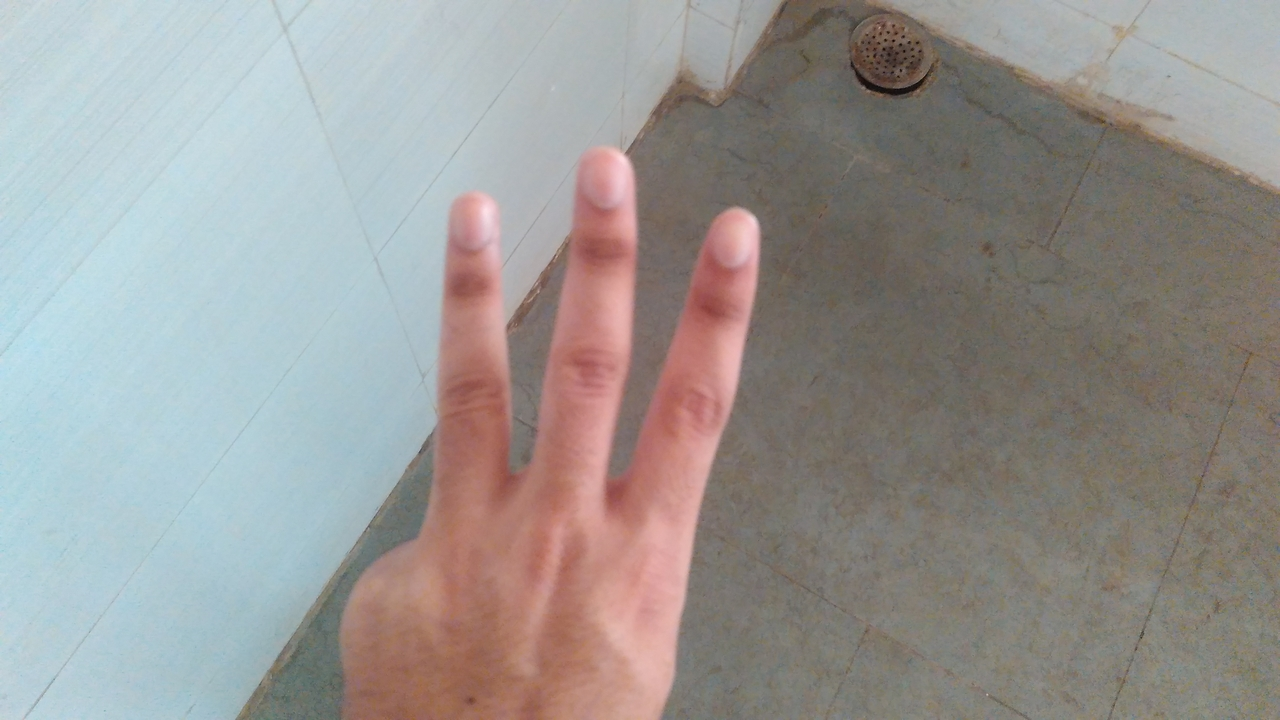fingertip: (694, 198, 768, 272), (570, 142, 638, 210), (440, 184, 504, 248)
